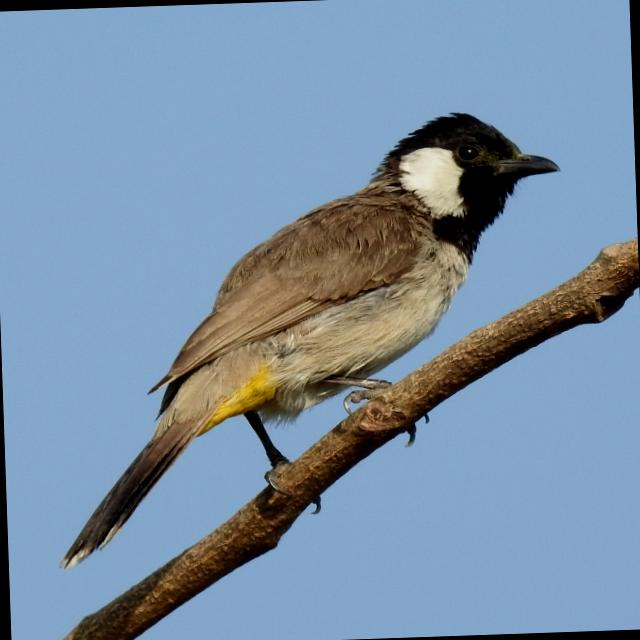bird: (30, 106, 578, 582)
